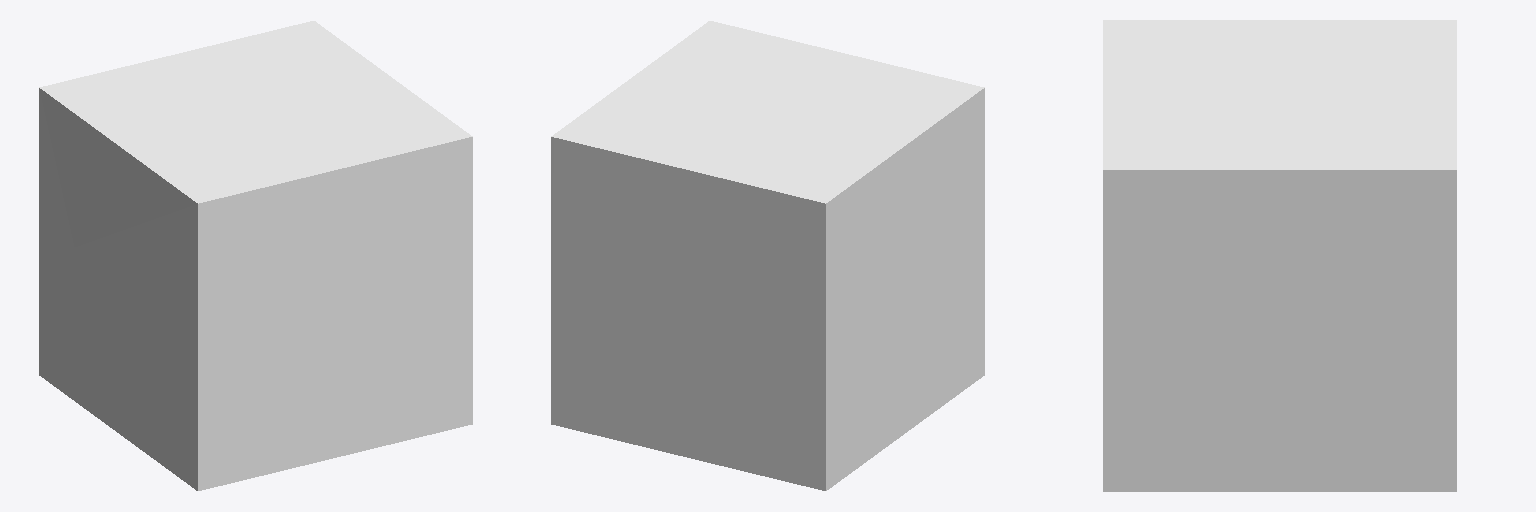
The robot description file, URDF, robot "Cross_cube_bottle_preprocessed_convex":
<?xml version="1.0" ?>
<robot name="Cross_cube_bottle_preprocessed_convex">
  <link name="baseLink">
    <contact>
    	<friction_anchor/>
    	   <lateral_friction value="1.0"/>
    </contact>
    <inertial>
      <origin rpy="0 0 0" xyz="0 0 0"/>
       <!-- mass controls penetration -->
       <mass value=".5"/>
       <inertia ixx="1e-4" ixy="0" ixz="0" iyy="1e-4" iyz="0" izz="1e-4"/>
    </inertial>
    <visual>
      <origin rpy="0 0 0" xyz="0 0 0"/>
      <geometry>
        <mesh filename="Cross_cube_bottle_preprocessed_convex.obj"/>
      </geometry>
       <material name="white">
        <color rgba="1 1 1 1"/>
      </material>
    </visual>
    <collision>
      <origin rpy="0 0 0" xyz="0 0 0"/>
      <geometry>
        <mesh filename="Cross_cube_bottle_preprocessed_convex.obj"/>
      </geometry>
    </collision>
  </link>
</robot>

--- What the picture shows (computed from the rendered views, not written in the file) ---
3 views of the same robot in one strip: view 1: azimuth 30°, elevation 25°; view 2: azimuth 150°, elevation 25°; view 3: azimuth 270°, elevation 25° (orthographic).
Robot: Cross_cube_bottle_preprocessed_convex — 1 links, 0 joints (none); root link baseLink; default pose: every joint at zero.
Links seen in each view (by area): view 1: baseLink; view 2: baseLink; view 3: baseLink.
Link boxes in pixels (<box>): baseLink: <box>39,21,472,490</box>; baseLink: <box>551,21,984,490</box>; baseLink: <box>1103,20,1456,491</box>.
Size in the robot's own frame: 0.0808 by 0.0808 by 0.0808 metres.
Meshes: 1 distinct files referenced, 1 mesh visuals loaded (1 OBJ).